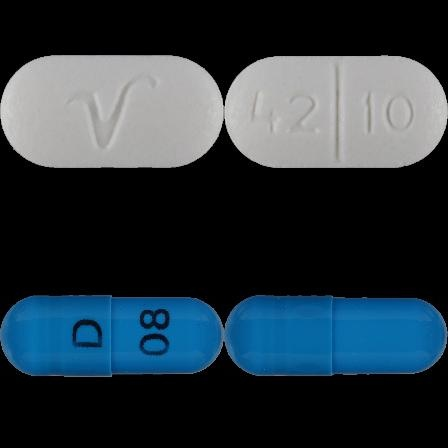10544-585: (0, 0, 224, 224)
